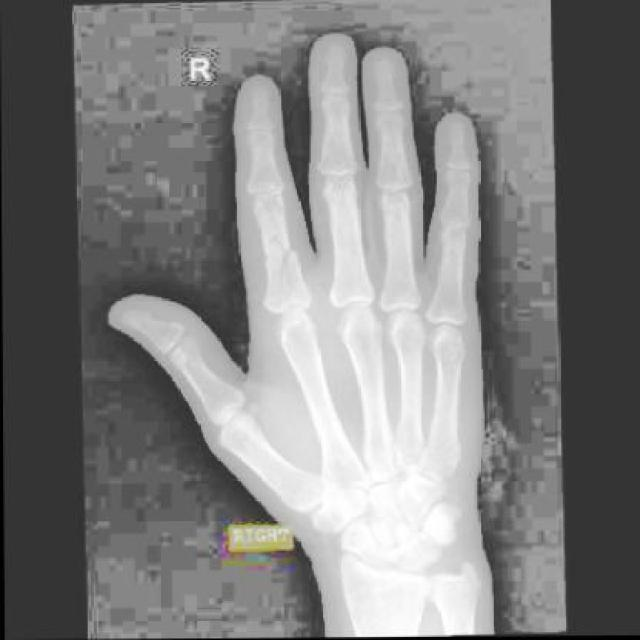Fracture: (260, 228, 305, 301)
